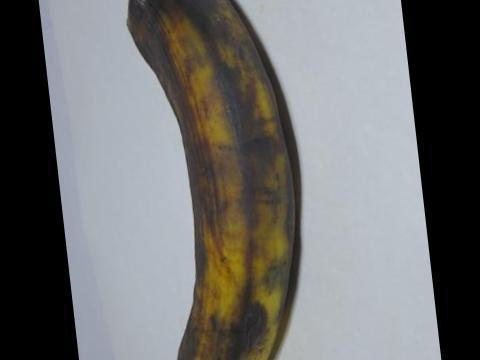overripe: (99, 0, 323, 359)
